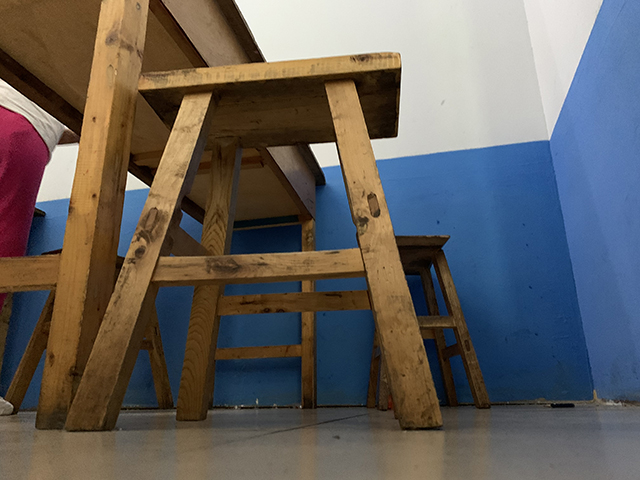stool: (63, 51, 446, 433), (366, 233, 493, 411)
table: (1, 1, 328, 434)
